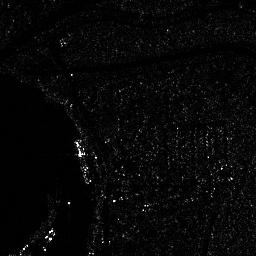ship: (76, 157, 93, 184), (42, 227, 55, 251), (72, 140, 87, 157)
